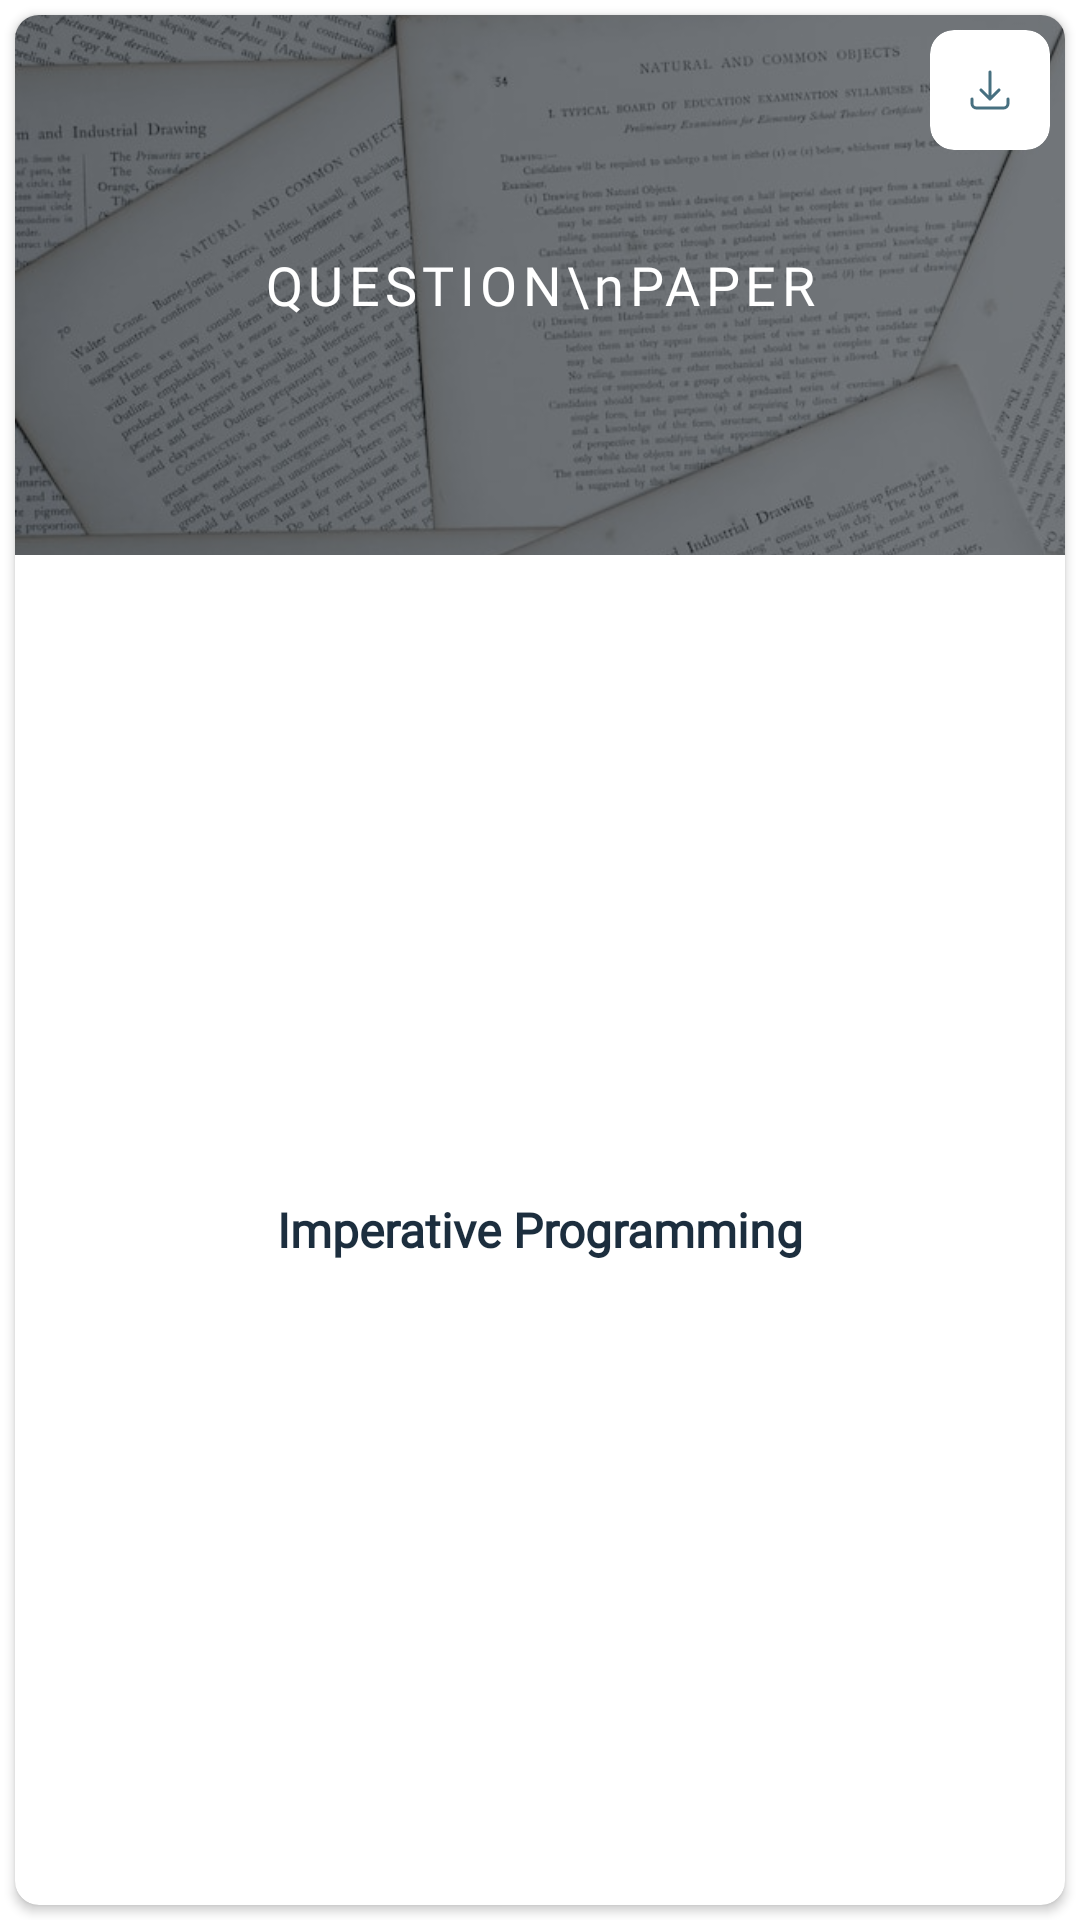

Screen size 1080*1920. Icon name, then its box in pixels as detection(x1, y1, x2, y2):
download: detection(930, 30, 1050, 150)
